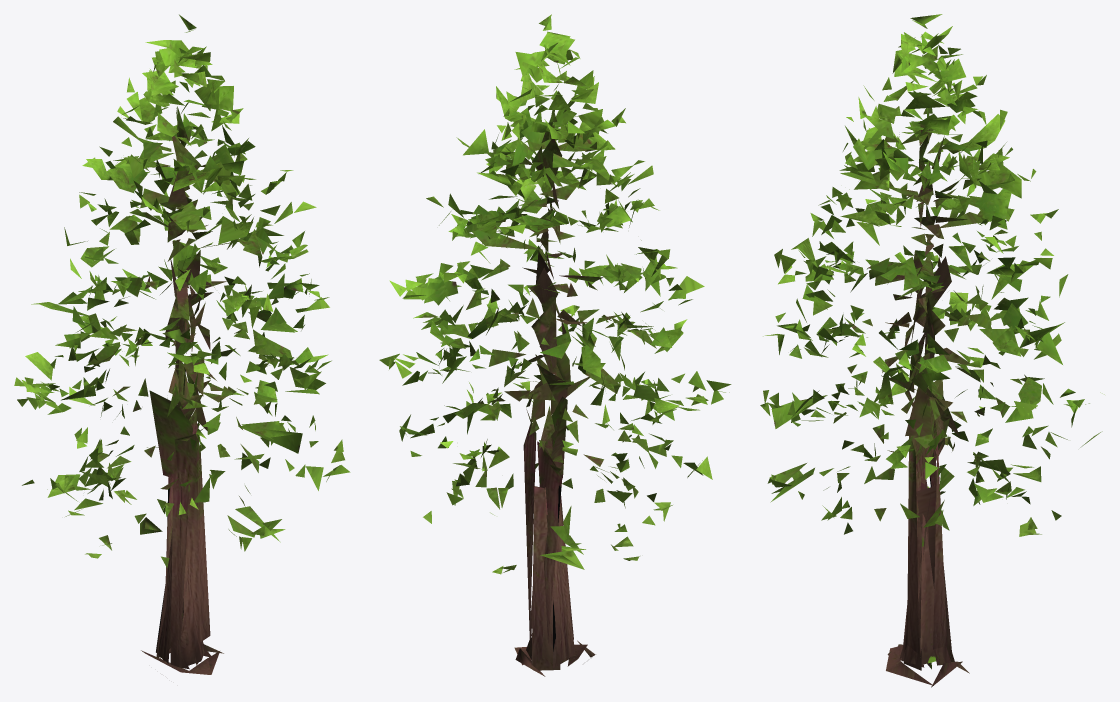
The model's file is Pine.glb.
3 renders of one model, left to right at view 1: azimuth 30°, elevation 25°; view 2: azimuth 150°, elevation 25°; view 3: azimuth 270°, elevation 25°, orthographic.
Parts seen in each view (by area): view 1: Mesh0; view 2: Mesh0; view 3: Mesh0.
Boxes of the visible parts, x1,y1,x2,y2 form: Mesh0: (14, 14, 350, 674); Mesh0: (379, 14, 731, 676); Mesh0: (760, 14, 1104, 687).
Bounding box in the file's own units: 0.923 × 1.94 × 0.9145.
1 material, 1 textured.
